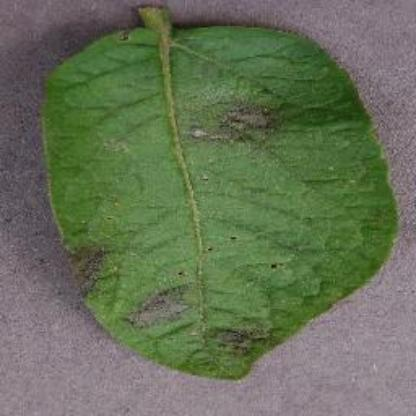Late-Blight: (32, 2, 406, 392)
